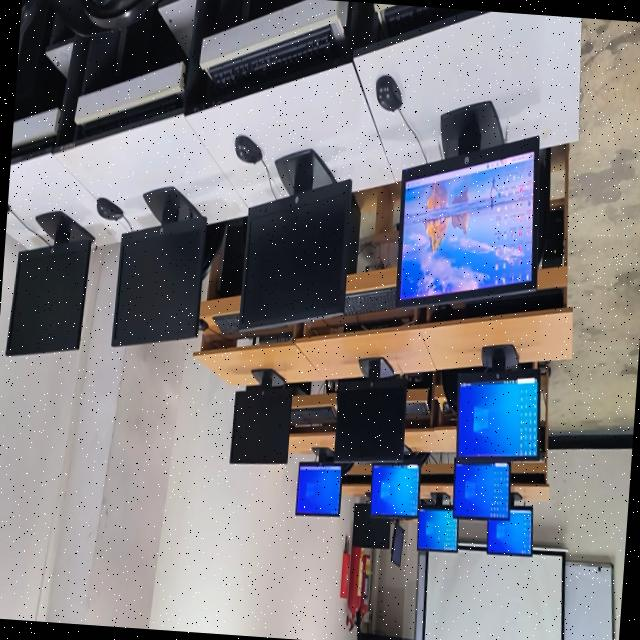Chair: (79, 0, 159, 30), (442, 369, 471, 411)
Fire Extinguisher: (347, 546, 364, 623), (360, 553, 371, 621)
Keyboard: (208, 24, 339, 94), (383, 5, 469, 36), (344, 287, 395, 314), (291, 406, 336, 425), (214, 314, 239, 334), (405, 398, 430, 418)
Monitor: (396, 101, 539, 306), (240, 150, 352, 329), (112, 187, 207, 345), (6, 212, 94, 355), (457, 345, 538, 460), (334, 357, 407, 462), (453, 463, 510, 519), (295, 448, 341, 516), (371, 464, 419, 519), (486, 508, 531, 555), (417, 506, 458, 551), (352, 503, 391, 549), (390, 520, 404, 567)
Mouse: (376, 75, 401, 111), (235, 135, 262, 163), (97, 198, 123, 220), (442, 402, 452, 414)
